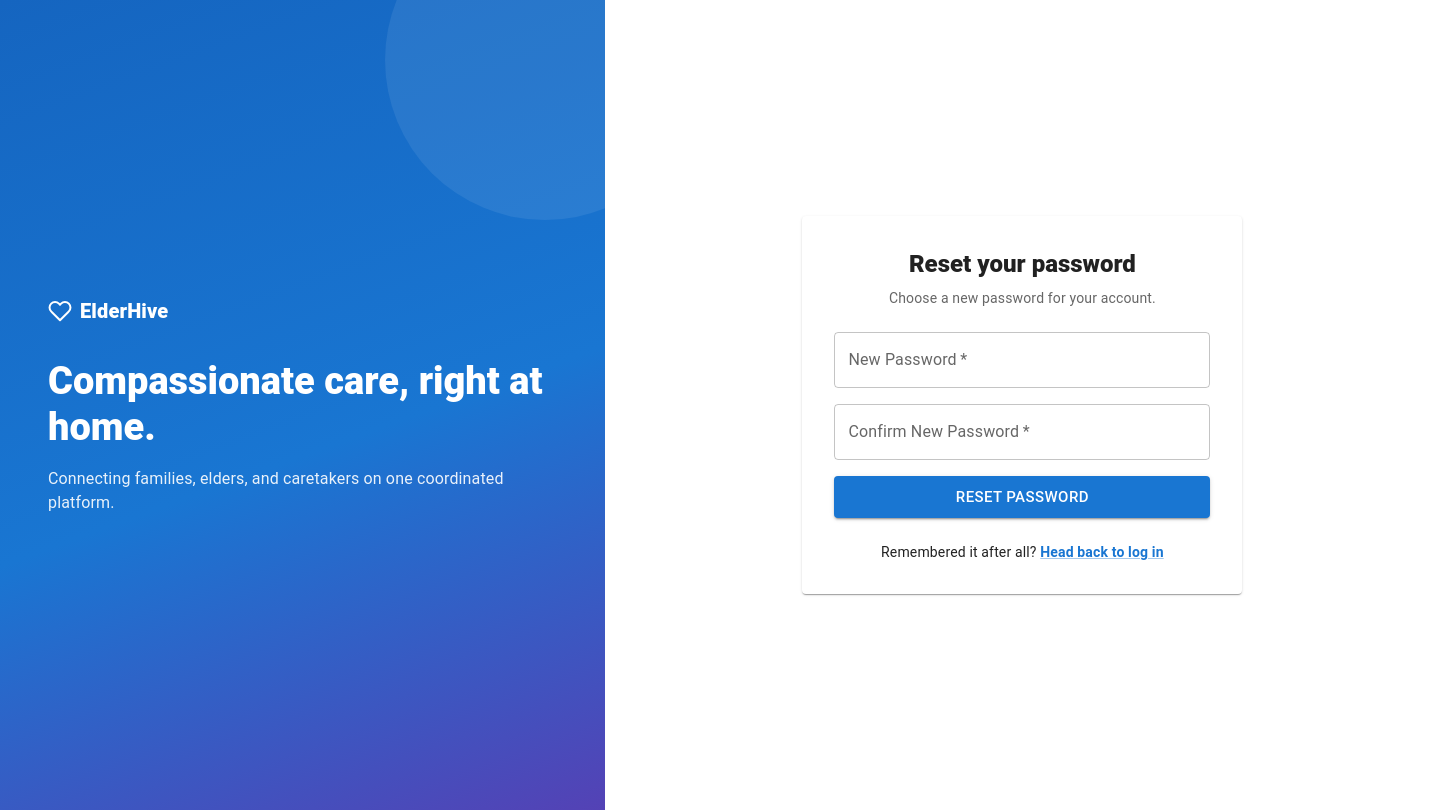
it: ResetPassword.page › blocks submission when the two passwords don't match
This screenshot has width=1440, height=810.
Step 1. Type "strongpass123" into the password field labelled "New Password *" → (1022, 360), box x1=834 y1=332 x2=1210 y2=388
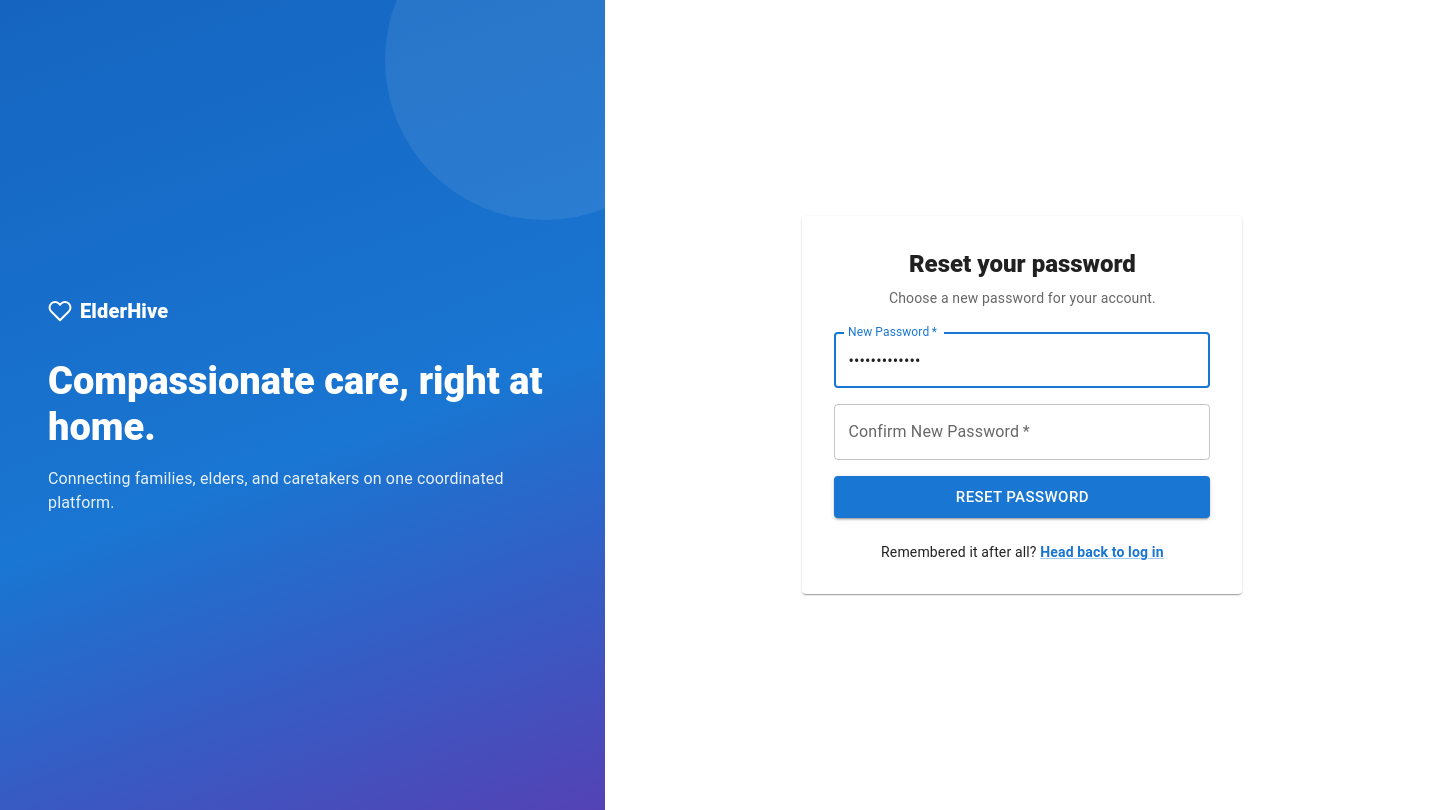
Step 2. Type "differentpass456" into the password field labelled "Confirm New Password *" → (1022, 432), box x1=834 y1=404 x2=1210 y2=460
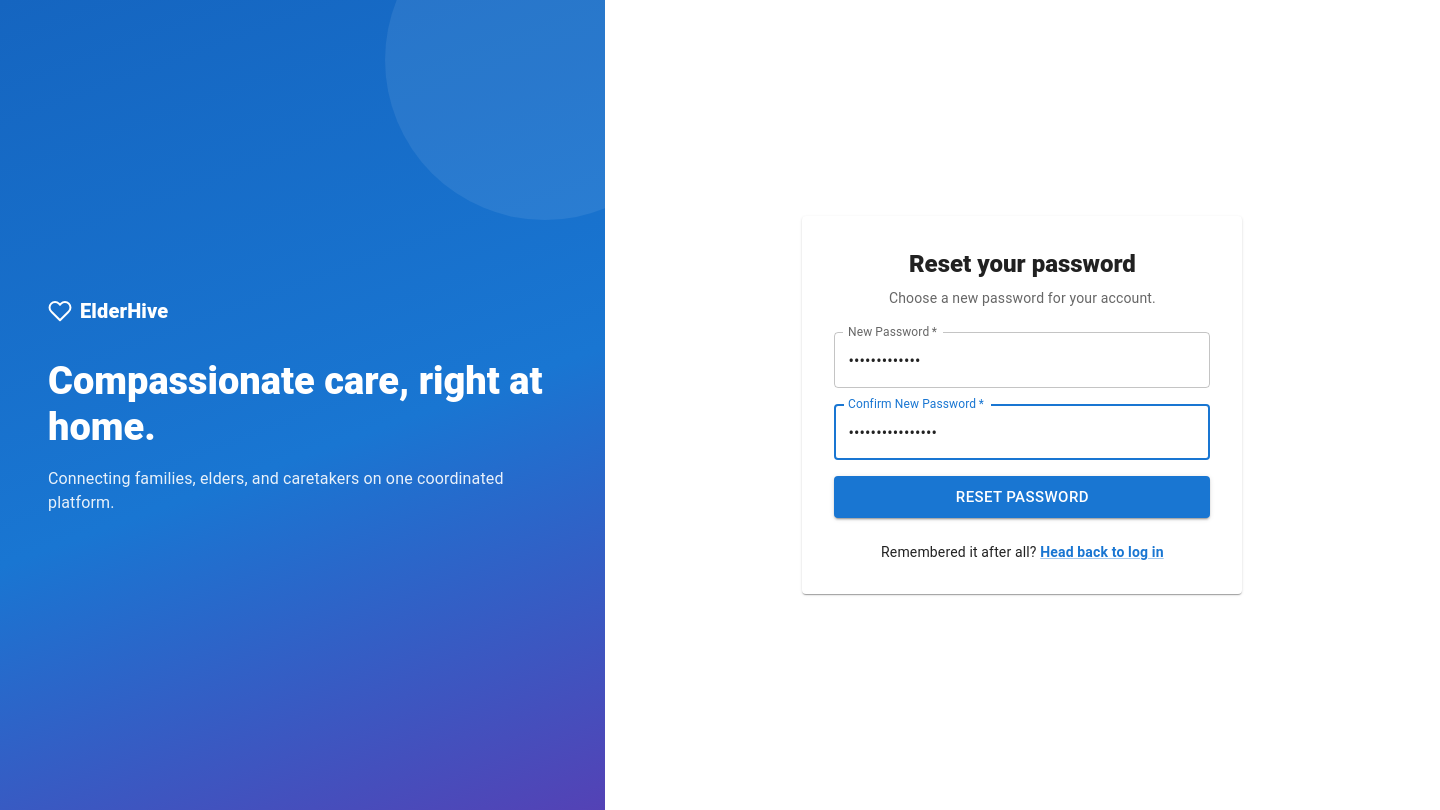
Step 3. Click the button "Reset Password" → (1022, 497), box x1=834 y1=476 x2=1210 y2=518
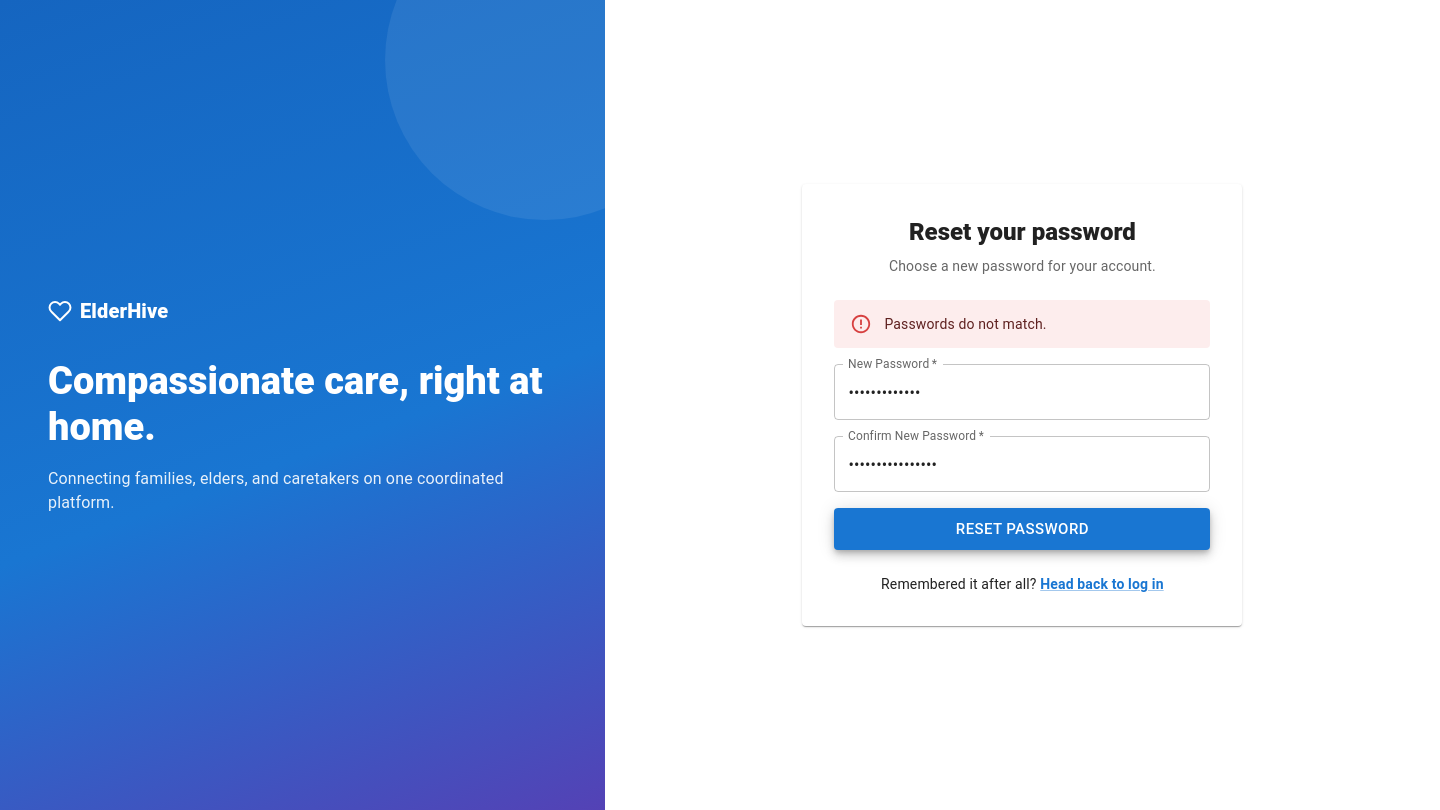
Now the text "Passwords do not match." is shown, box x1=884 y1=316 x2=1047 y2=332
